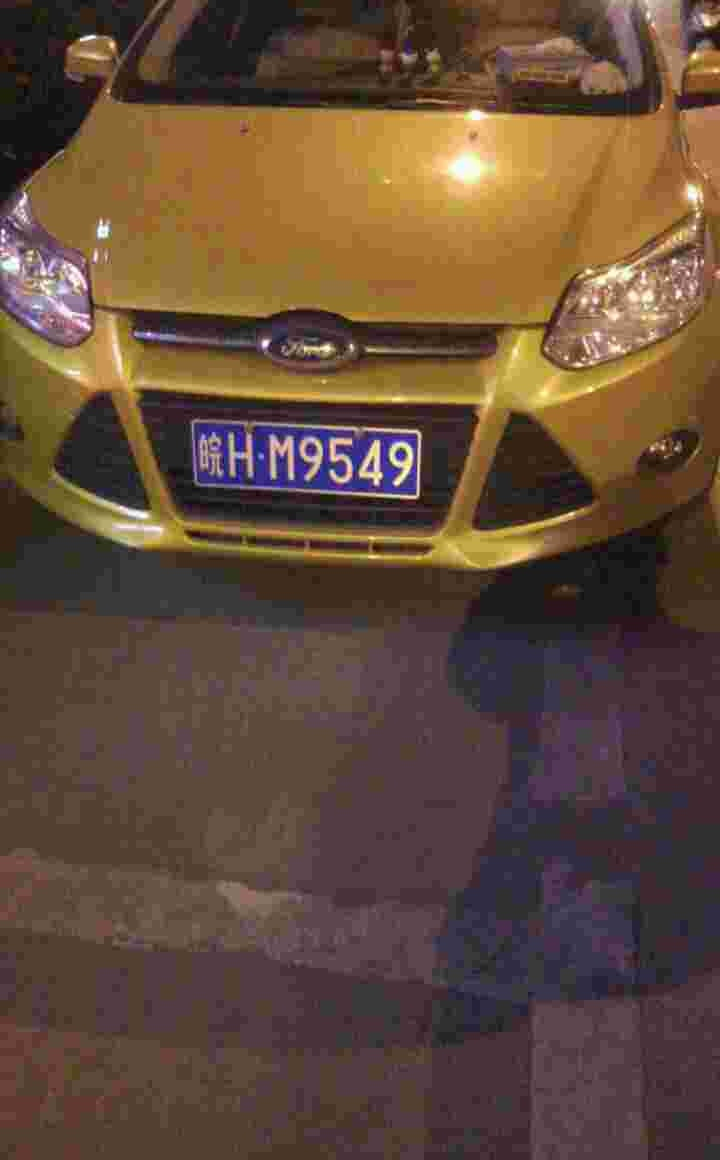license_plate: (195, 422, 433, 497)
